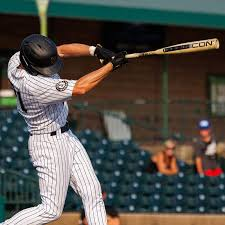baseball bat: (120, 36, 221, 63)
